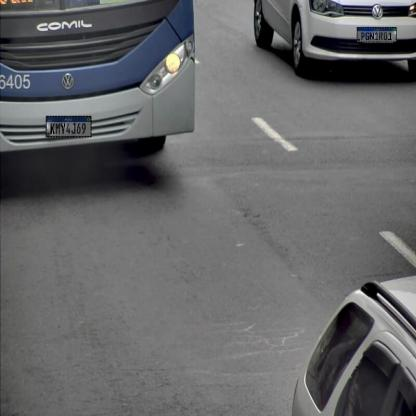PlacaM: (46, 116, 92, 137), (356, 27, 396, 42)
